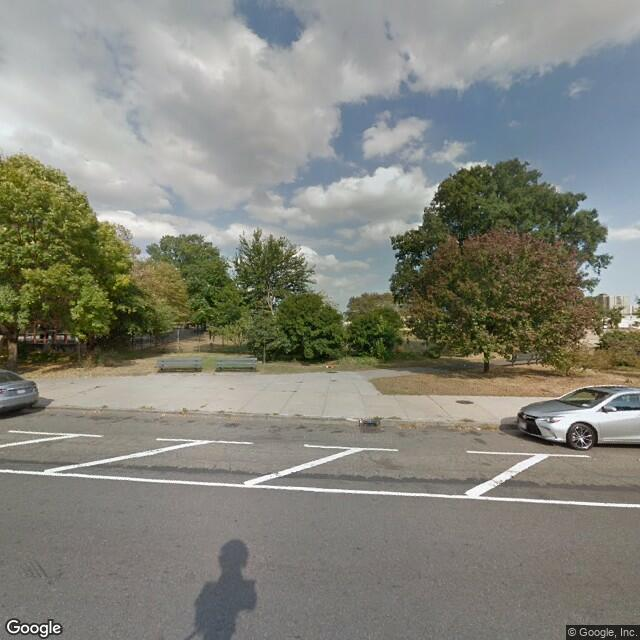litter: (470, 424, 487, 434), (355, 415, 368, 426)
